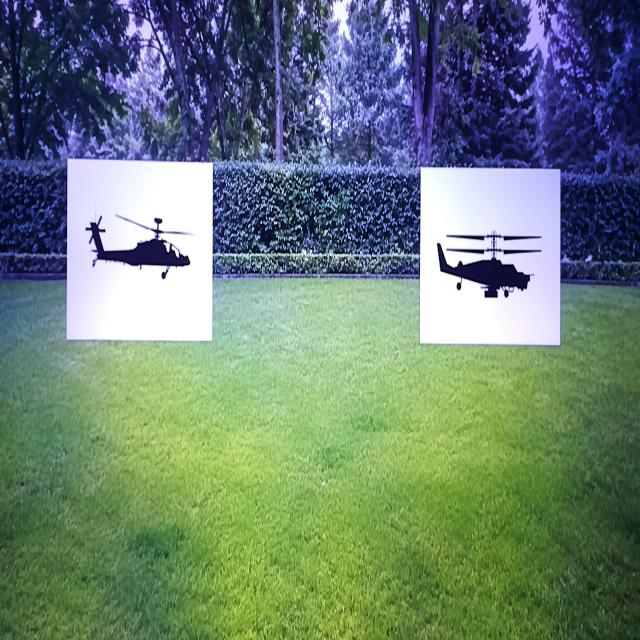Apache friendly: (86, 215, 190, 279)
Ka-52 Enemy: (438, 232, 541, 297)
